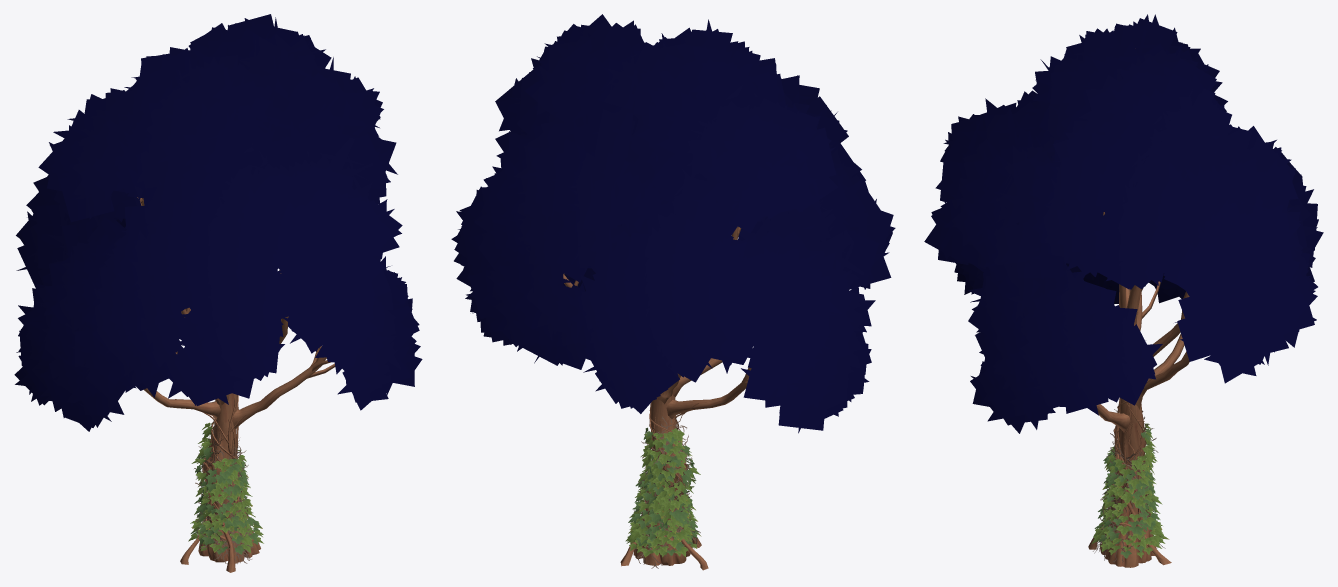
The model's file is SM_OakTree_04_Ivy.fbx.
3 views of the same model, side by side, from view 1: azimuth 30°, elevation 25°; view 2: azimuth 150°, elevation 25°; view 3: azimuth 270°, elevation 25° (orthographic). The views are drawn at different scales.
Parts seen in each view (by area): view 1: SM_OakTree_04_Ivy_LOD0; view 2: SM_OakTree_04_Ivy_LOD0; view 3: SM_OakTree_04_Ivy_LOD0.
Boxes of the visible parts, x1=… form: SM_OakTree_04_Ivy_LOD0: x1=14, y1=14, x2=422, y2=572; SM_OakTree_04_Ivy_LOD0: x1=451, y1=14, x2=895, y2=570; SM_OakTree_04_Ivy_LOD0: x1=924, y1=14, x2=1323, y2=567.
Size of what is drawn, in the model's own units: 789 by 1117 by 782.
